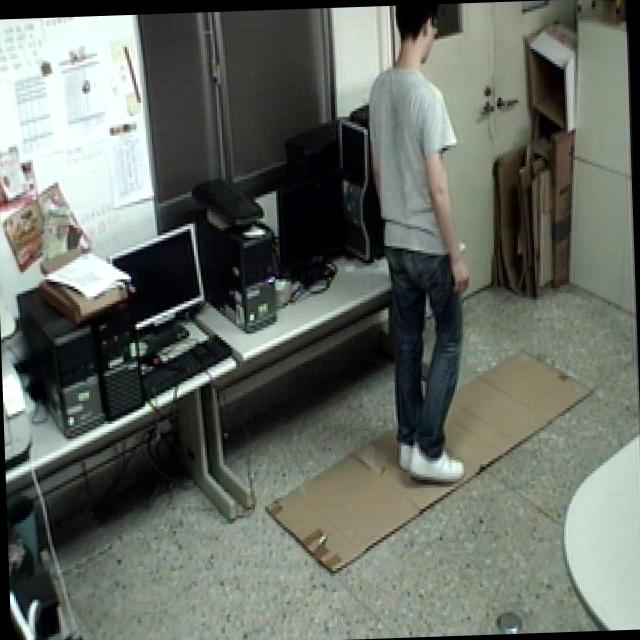stand: (362, 0, 481, 495)
